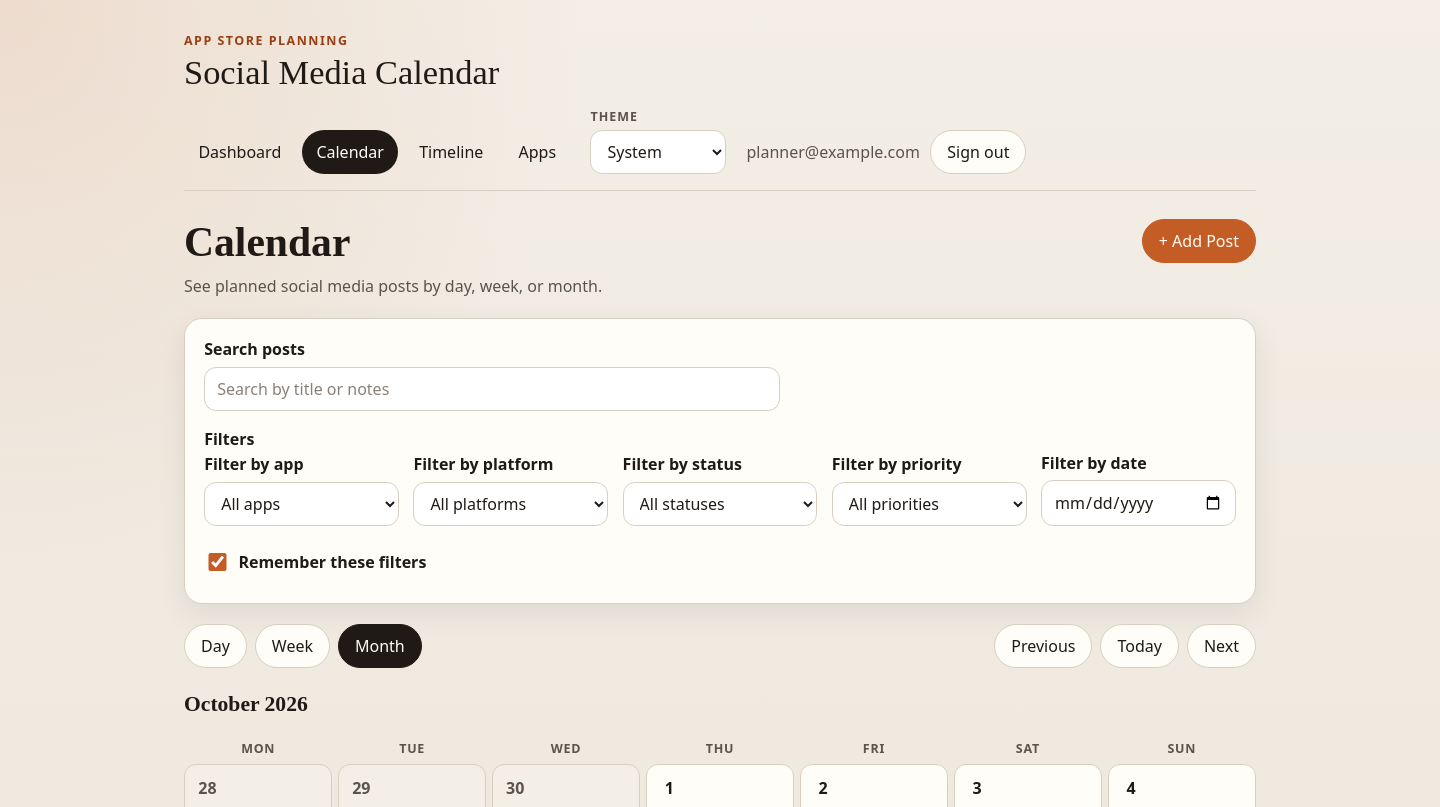
B-016 user settings › shows a message when preferences cannot be saved
What coordinates should you click on to do the following:
click the button "Week"
I would click on:
 (292, 646)
Its box is left=255, top=624, right=330, bottom=668.
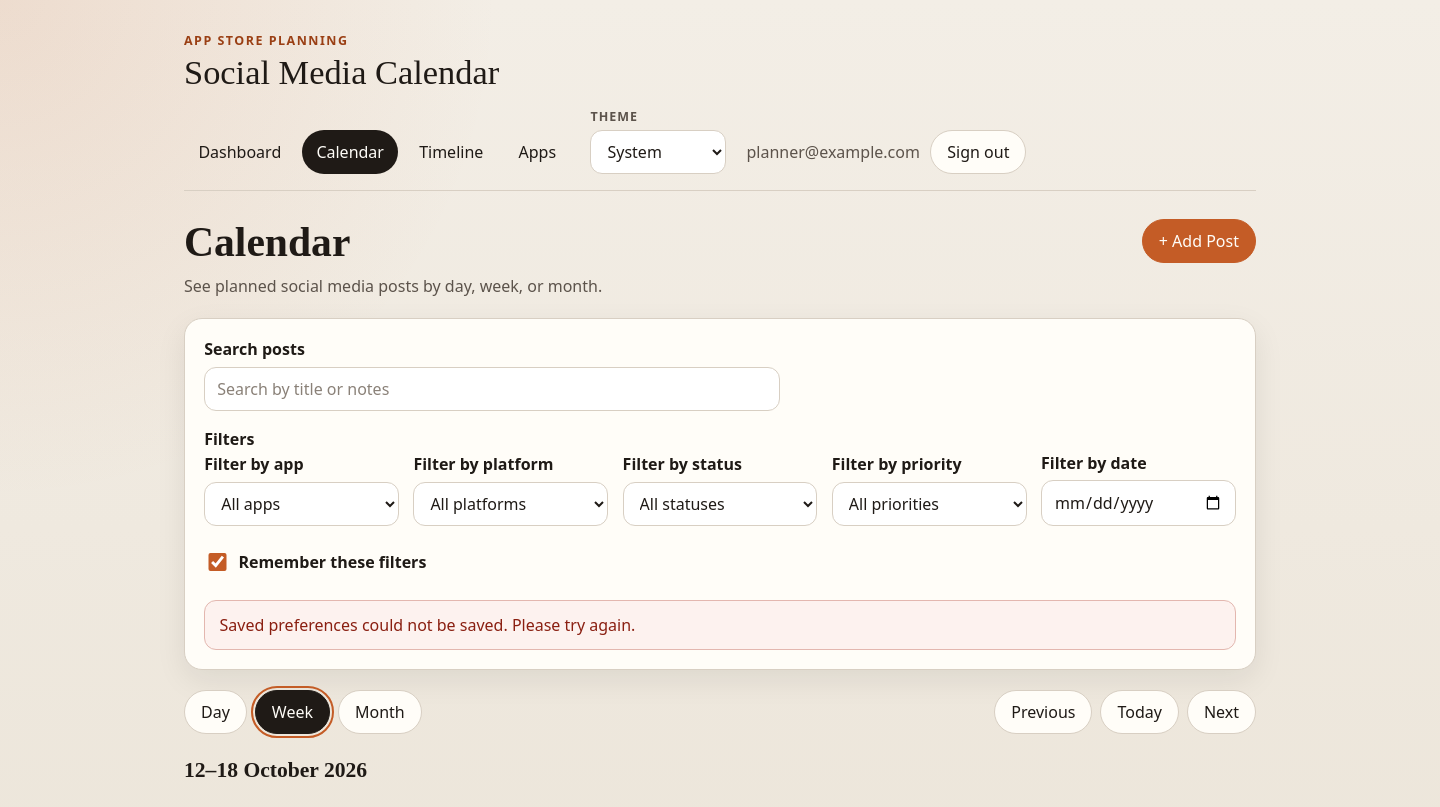
Check: the message named "Settings save warning" reads "Saved preferences could not be saved. Please try again.", box left=220, top=614, right=635, bottom=636
